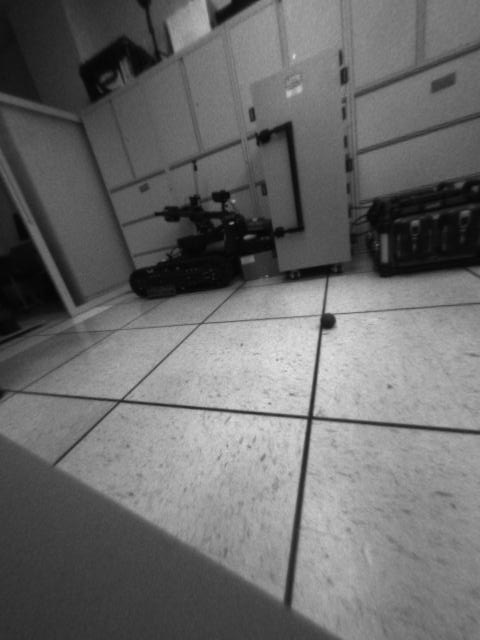dogtoy: (317, 308, 342, 330)
